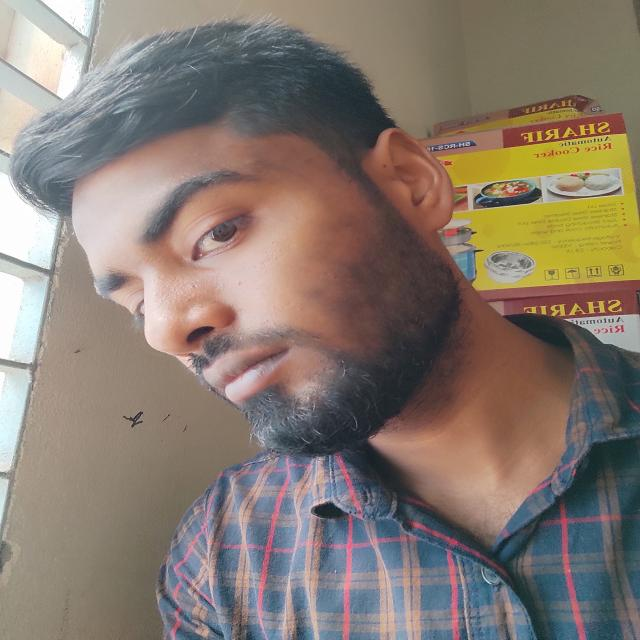Acne: (158, 278, 207, 308), (280, 299, 307, 314)
